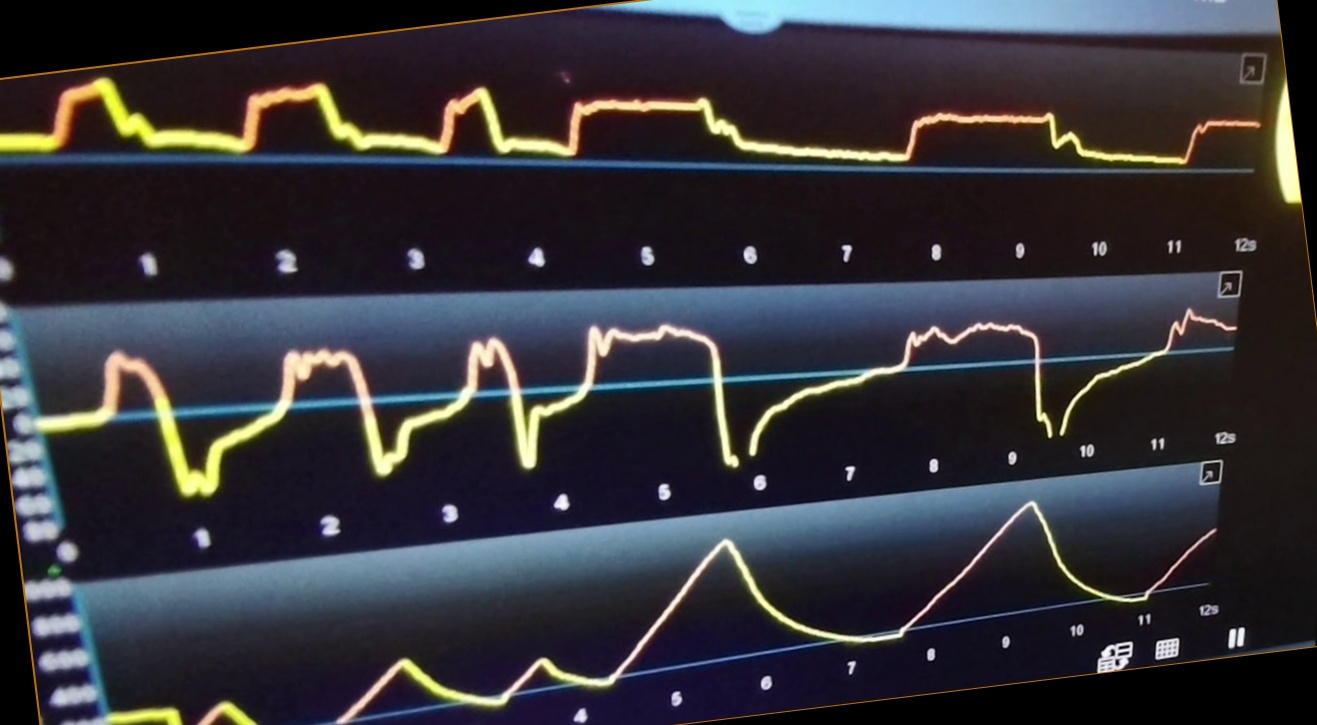Accumulation Flow: (42, 303, 1229, 488)
Volume: (109, 506, 1213, 725)
